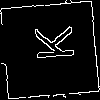K: (25, 24, 75, 63)
